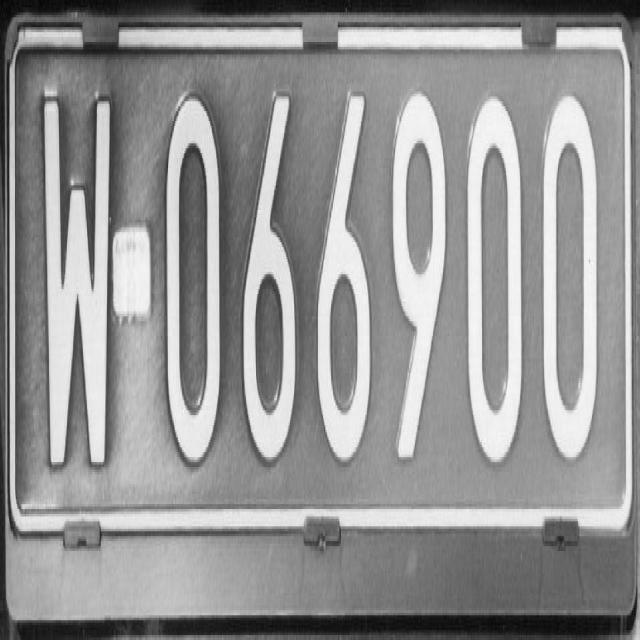License_Plate: (8, 21, 635, 536)
